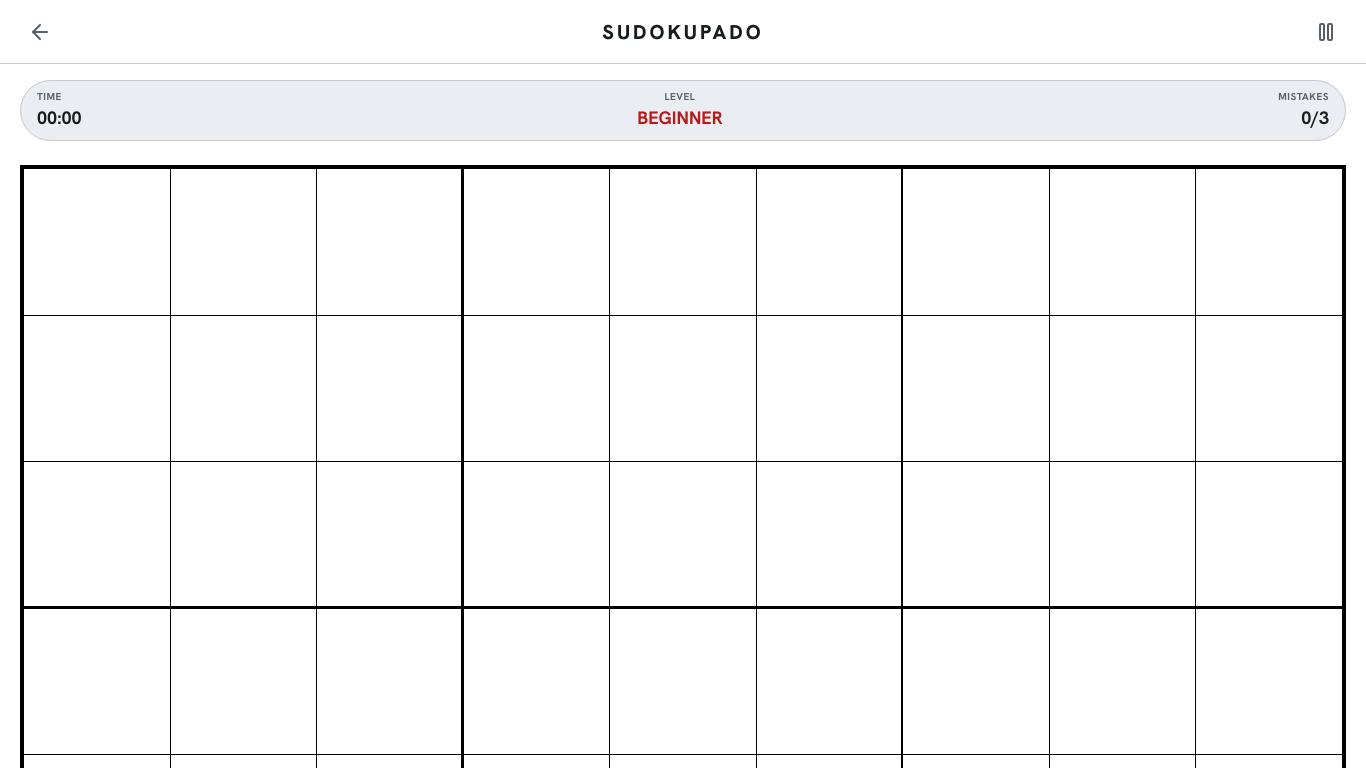
Test: Integration: GameScreen Visual Interactions › should show error visually and increment counter when user inputs wrong number
# Click cell 0,1
Click the element with test id "cell-0-1": (243, 242) [170,169,316,314]
(page scrolled)
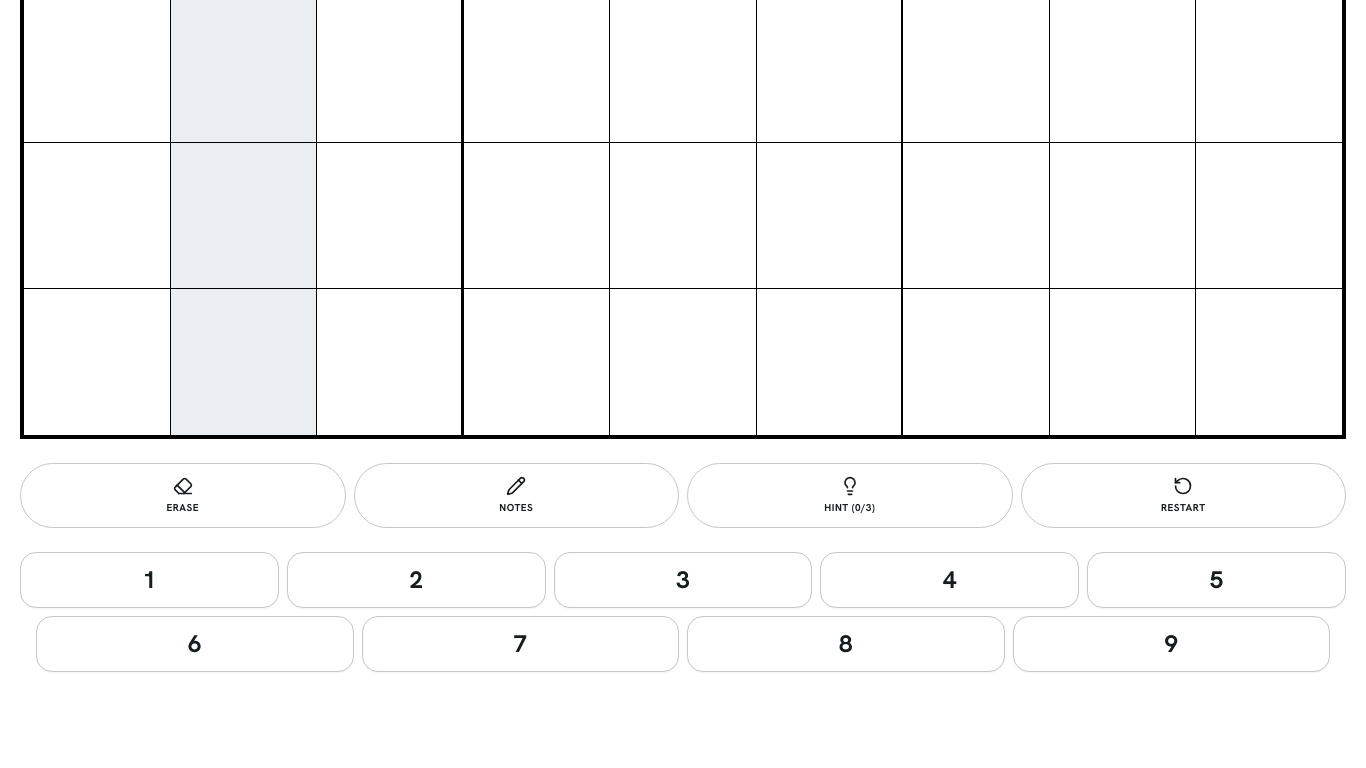
# Click number 5 (Incorrect, solution is 1)
Click the button "5": (1217, 580) [1087,552,1346,608]
(page scrolled)
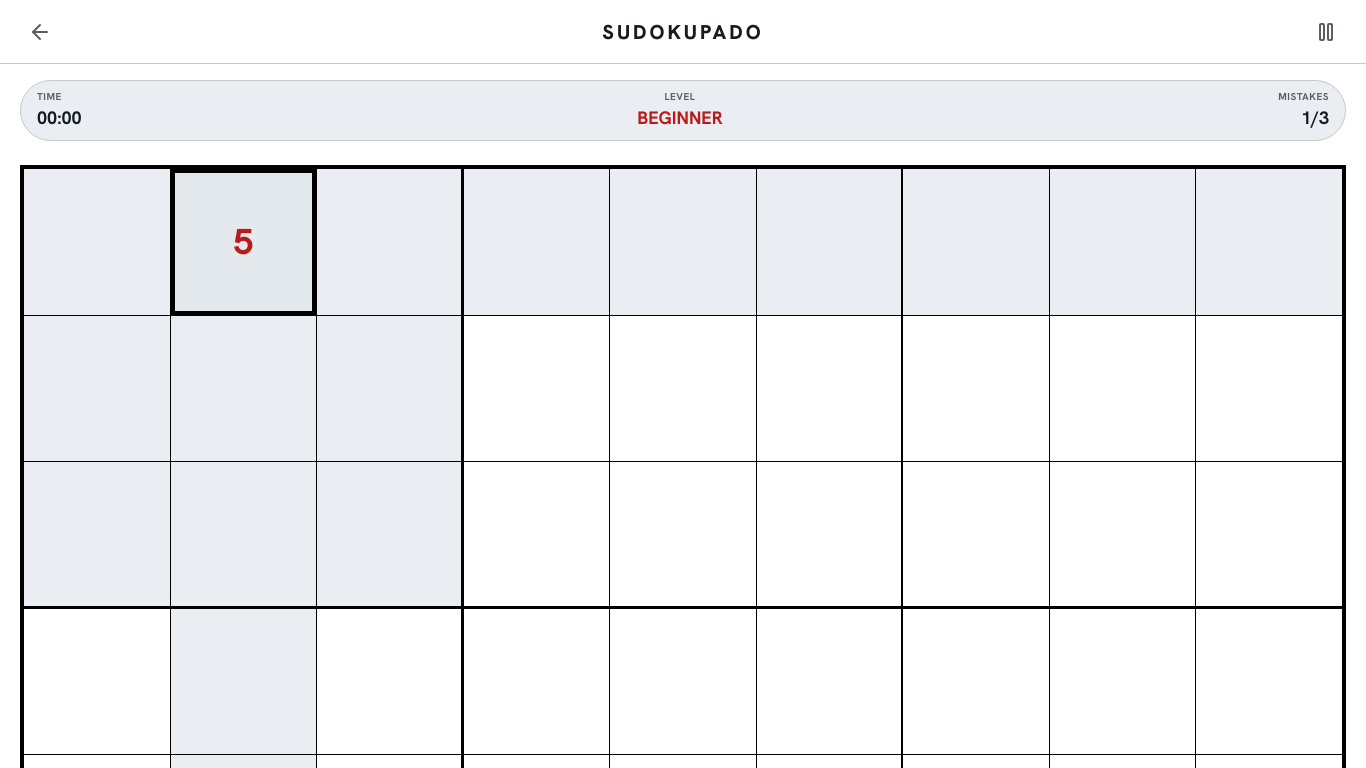
Expected: the element with test id "cell-0-1" reads "5", [233,218,253,265]
Expected: the text "1/3" is shown, [1301,104,1329,132]
